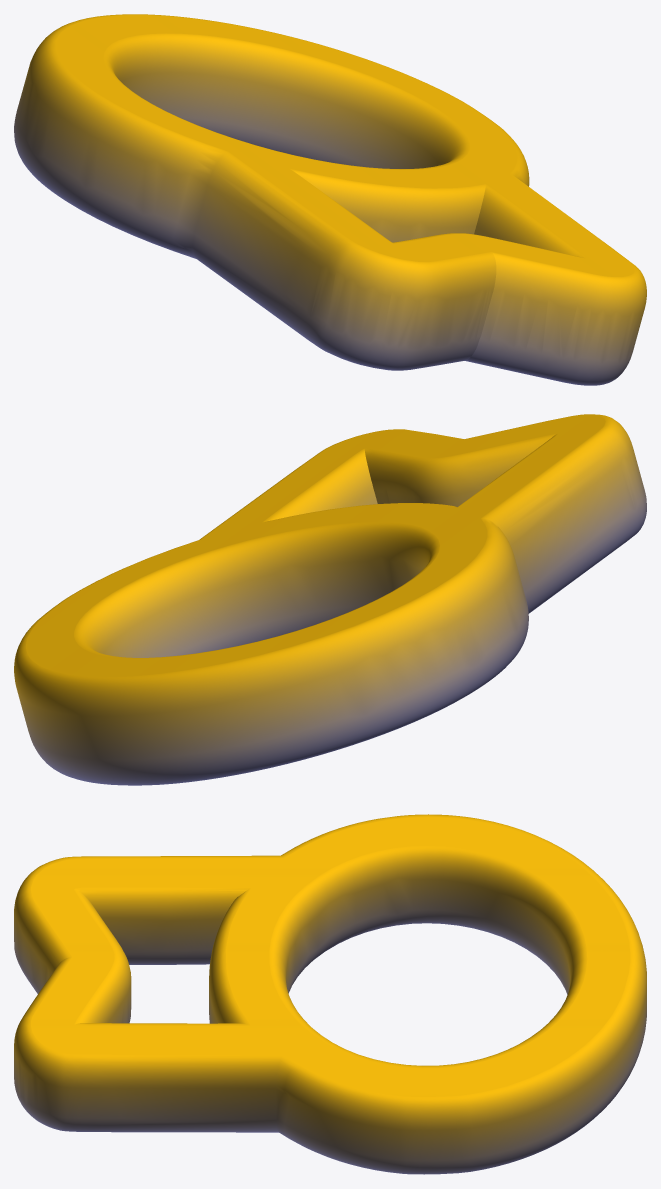
The model's file is medal-nd.glb.
The picture shows the model from 3 angles, top to bottom: view 1: azimuth 30°, elevation 25°; view 2: azimuth 150°, elevation 25°; view 3: azimuth 270°, elevation 25°; orthographic projection. The views are drawn at different scales.
Size of what is drawn, in the model's own units: 0.3733 by 0.1833 by 0.5279.
Materials: 1 (1 with a texture image).
